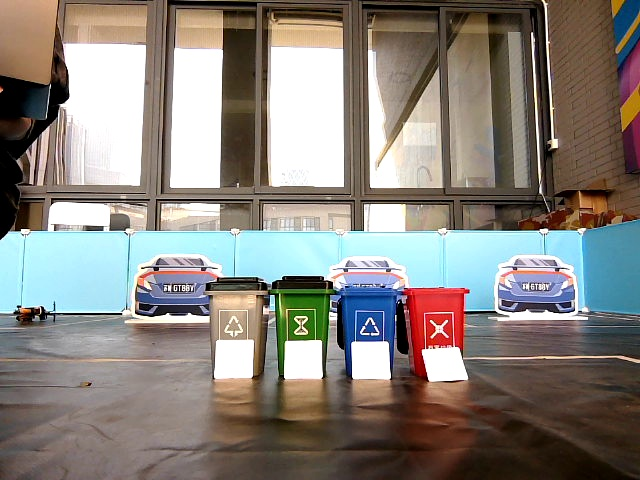blue_open: (341, 289, 393, 336)
green_close: (275, 275, 326, 337)
grey_close: (210, 276, 266, 338)
red_open: (409, 286, 464, 345)
